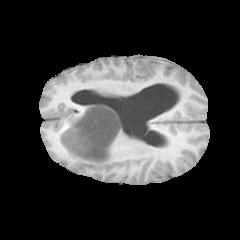glioma: (60, 105, 122, 167)
